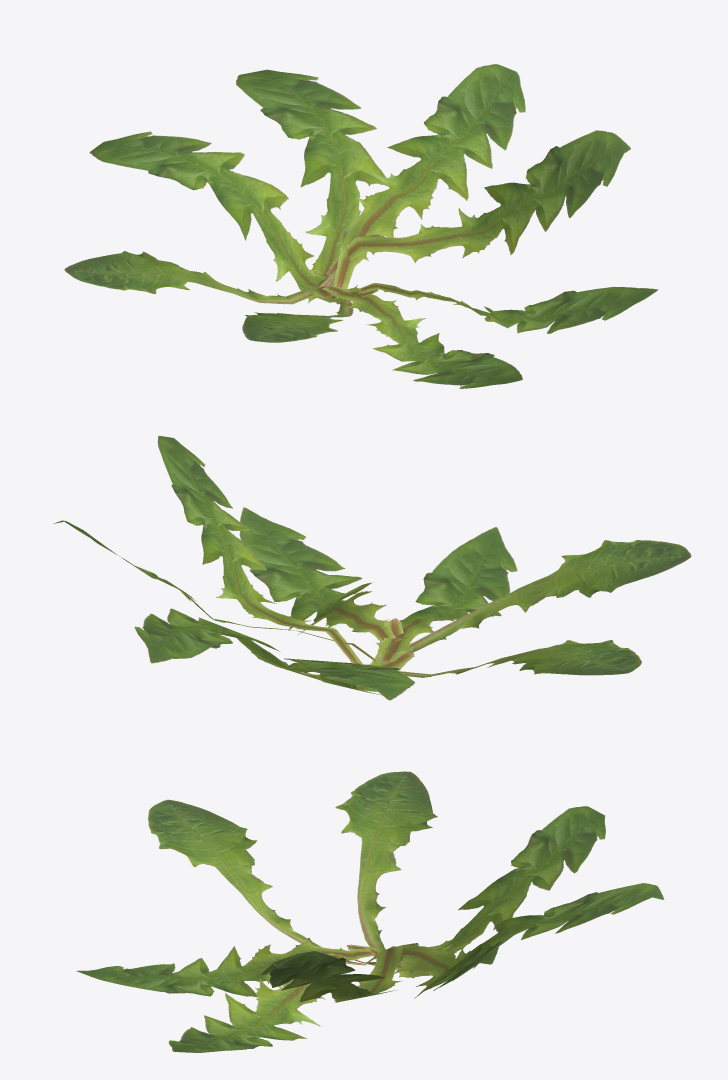
File: Dentsdelions.fbx
The picture shows the model from 3 angles, top to bottom: view 1: azimuth 30°, elevation 25°; view 2: azimuth 150°, elevation 25°; view 3: azimuth 270°, elevation 25°; orthographic projection. The views are drawn at different scales.
Visible parts, largest first — view 1: pPlane97; view 2: pPlane97; view 3: pPlane97.
Part boxes in pixels (<box>): pPlane97: <box>64,64,658,388</box>; pPlane97: <box>53,435,691,700</box>; pPlane97: <box>76,771,664,1052</box>.
Bounding box in the file's own units: 0.6036 × 0.2021 × 0.6614.
1 material, 1 textured.
